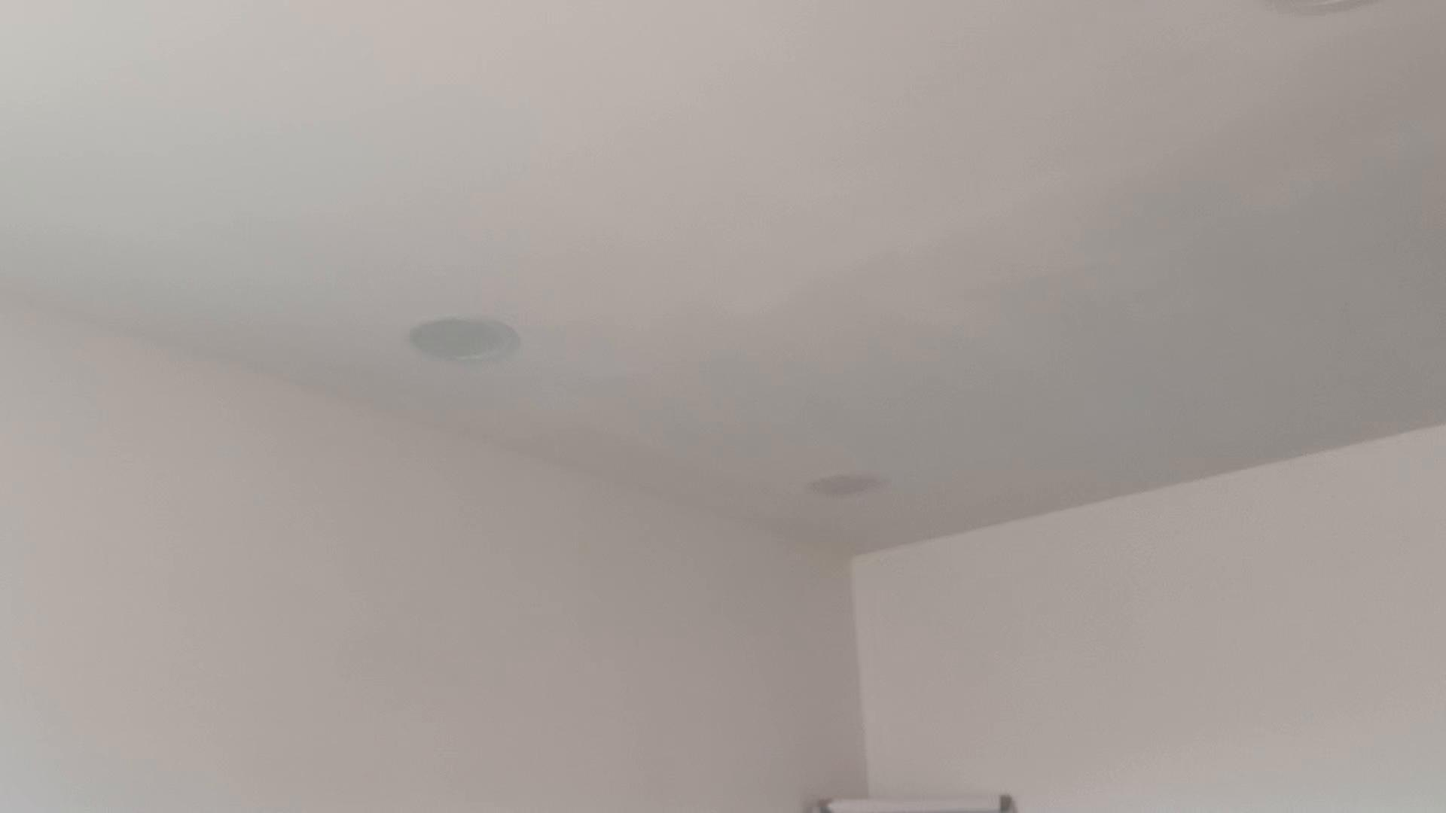ceiling: (0, 0, 1445, 549)
wall: (4, 299, 864, 812), (853, 426, 1445, 812)
